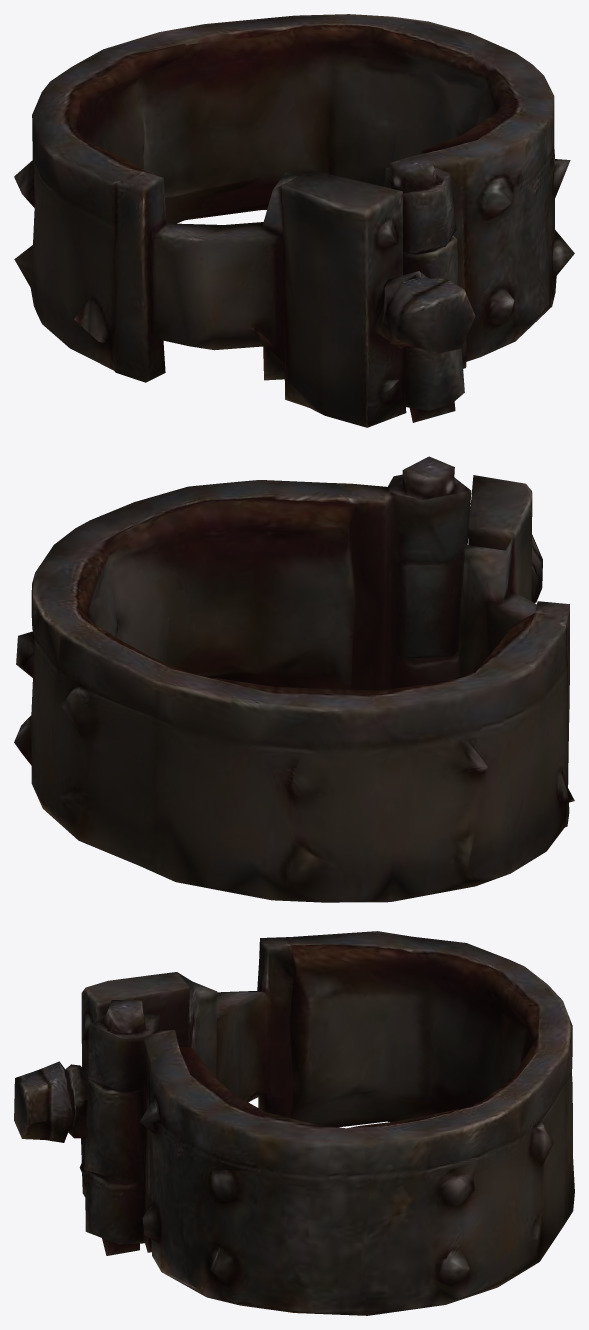
File: cuff.glb
3 views of the same model, one above another, from view 1: azimuth 30°, elevation 25°; view 2: azimuth 150°, elevation 25°; view 3: azimuth 270°, elevation 25° (orthographic). The views are drawn at different scales.
Visible parts, largest first — view 1: cuff; view 2: cuff; view 3: cuff.
Part boxes in pixels (x1,y1,x2,y2): cuff: (14,14,574,427); cuff: (14,456,574,902); cuff: (14,931,574,1315).
Size of the model in its own units: 0.272 by 0.1407 by 0.3.
1 material, 1 textured.
